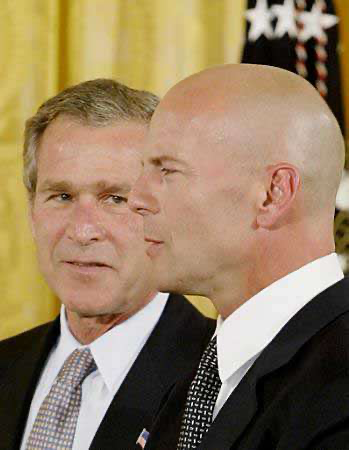Face: (30, 144, 175, 324), (127, 112, 221, 308)
